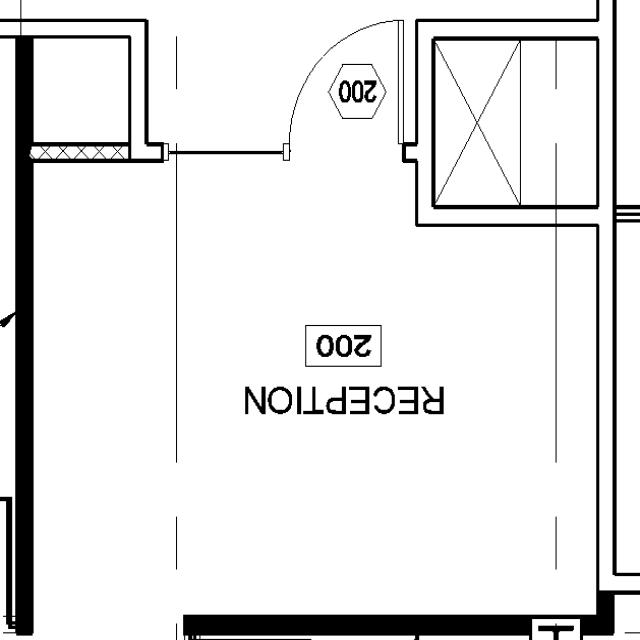Doors: (281, 14, 414, 165)
